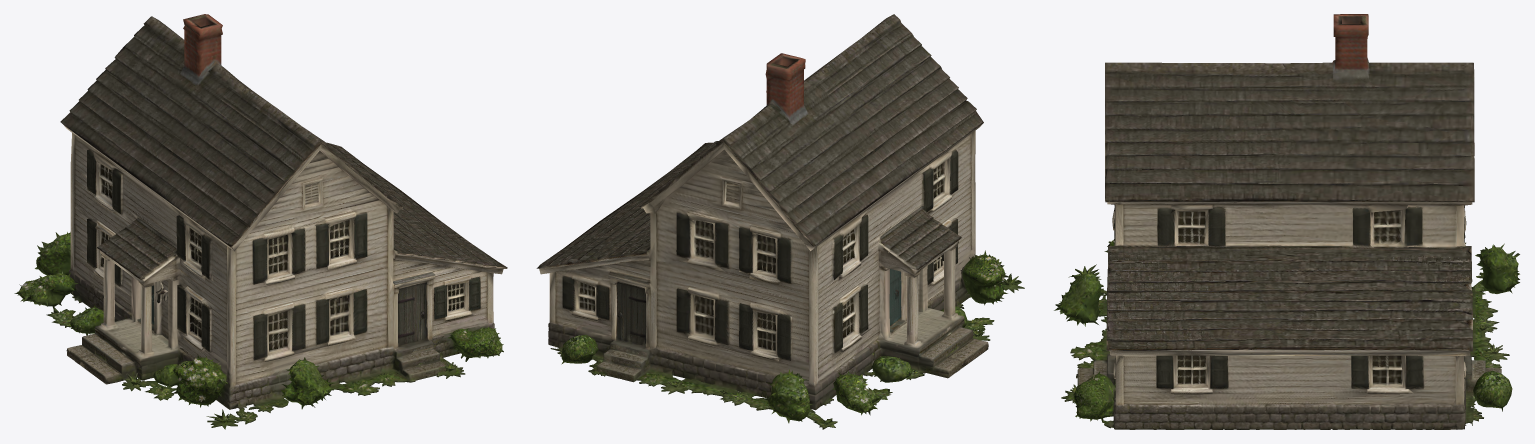
Rendered from tripo_convert_6e4dde22-3566-484b-a685-c971607adfc8.fbx.
3 renders of one model, left to right at view 1: azimuth 30°, elevation 25°; view 2: azimuth 150°, elevation 25°; view 3: azimuth 270°, elevation 25°, orthographic. The views are drawn at different scales.
Visible parts, largest first — view 1: tripo_node_6e4dde22; view 2: tripo_node_6e4dde22; view 3: tripo_node_6e4dde22.
Part boxes in pixels (bbox=[...]): tripo_node_6e4dde22: bbox=[14, 14, 507, 429]; tripo_node_6e4dde22: bbox=[536, 14, 1024, 429]; tripo_node_6e4dde22: bbox=[1054, 14, 1519, 429].
Size of the model in its own units: 0.8996 by 0.7259 by 0.9808.
Materials: 1 (1 with a texture image).
